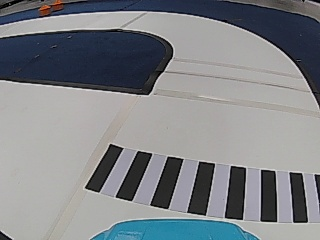CrossWalk: (85, 143, 319, 221)
